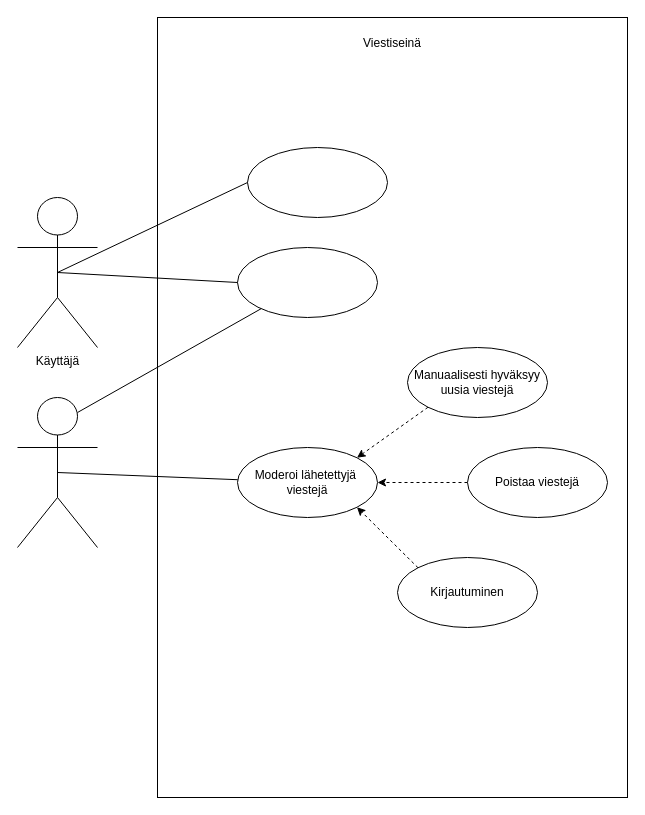
Some shapes in this 645 by 815 pixel diagram are drawn without their labels. The centre of each missing label's shape, as x and y in pixels:
Lukee lähetettyjä viestejä: pixel 307 282
Lähettää viestejä: pixel 317 182
Ylläpitäjä: pixel 57 472
